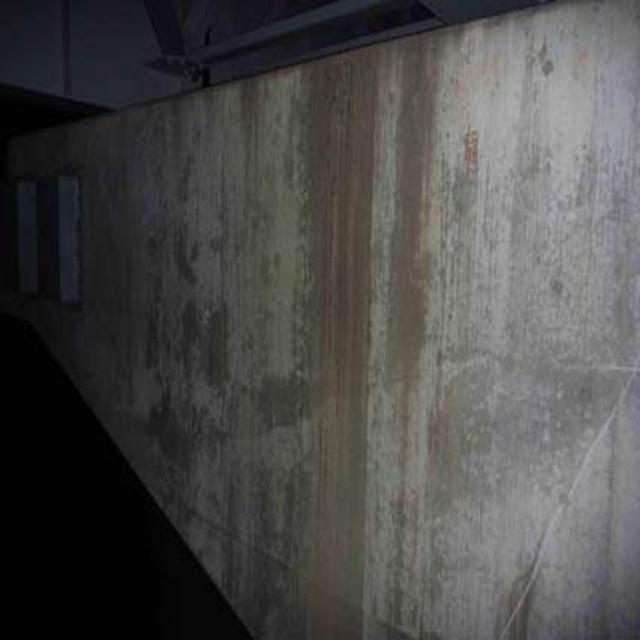leakage: (277, 50, 433, 640)
